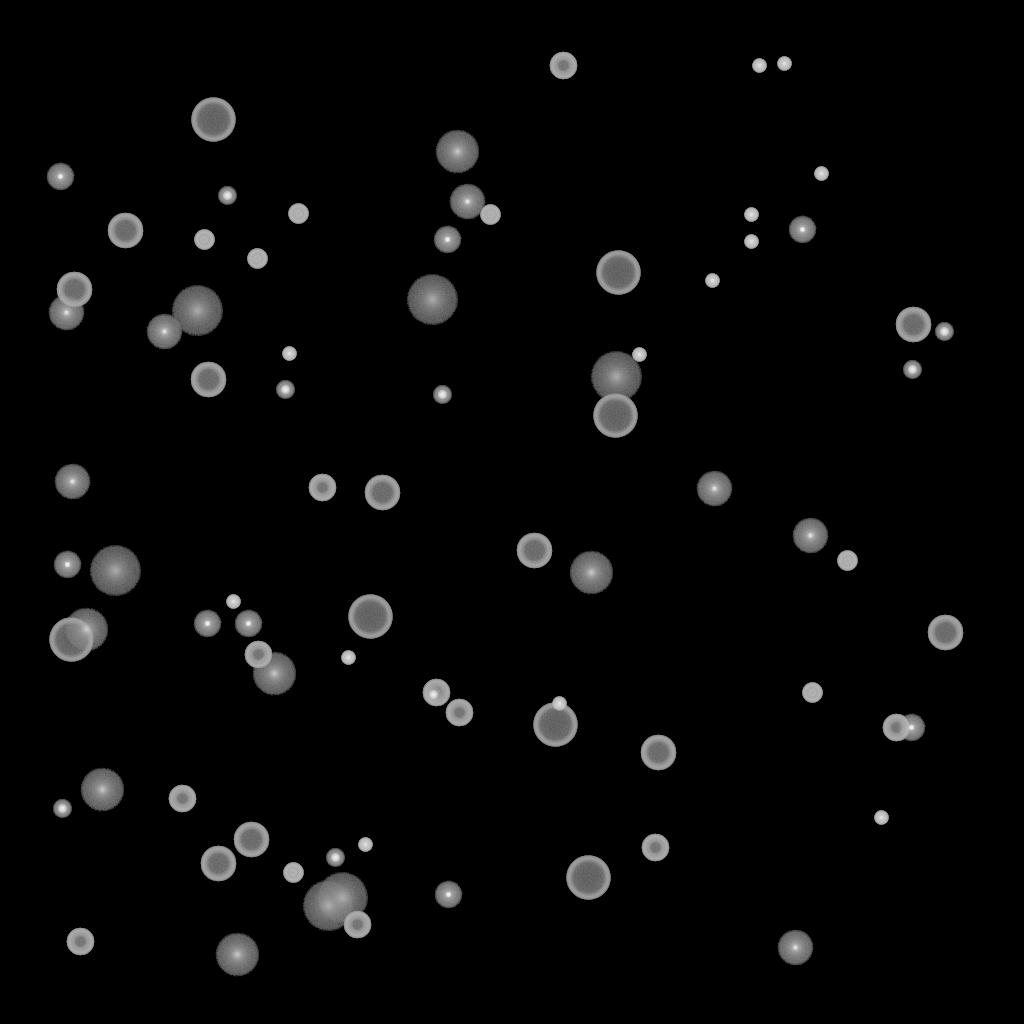depth:-10: (788, 216, 816, 244), (193, 610, 221, 638), (434, 881, 462, 909), (897, 714, 925, 742), (53, 551, 81, 579), (234, 610, 262, 638), (46, 163, 74, 191), (433, 226, 461, 254)
depth:-20: (935, 323, 953, 341), (424, 686, 442, 704), (903, 361, 921, 379), (433, 386, 451, 404), (276, 381, 294, 399), (218, 187, 236, 205), (326, 849, 344, 867), (53, 800, 71, 818)
depth:-30: (282, 347, 296, 361), (226, 595, 240, 609), (744, 208, 758, 222), (814, 167, 828, 181), (552, 697, 566, 711), (341, 651, 355, 665), (632, 348, 646, 362), (358, 838, 372, 852), (752, 59, 766, 73), (874, 811, 888, 825), (744, 235, 758, 249), (705, 274, 719, 288), (777, 57, 791, 71)
depth:-40: (288, 204, 308, 224), (247, 249, 267, 269), (194, 230, 214, 250), (283, 863, 303, 883), (802, 683, 822, 703), (837, 551, 857, 571), (480, 205, 500, 225)
depth:-50: (244, 641, 272, 669), (882, 714, 910, 742), (168, 785, 196, 813), (641, 834, 669, 862), (549, 52, 577, 80), (422, 679, 450, 707), (308, 474, 336, 502), (343, 911, 371, 939), (445, 699, 473, 727), (66, 928, 94, 956)
depth:-60: (190, 362, 226, 398), (516, 533, 552, 569), (200, 846, 236, 882), (640, 735, 676, 771), (56, 272, 92, 308), (233, 822, 269, 858), (107, 213, 143, 249), (927, 615, 963, 651), (895, 307, 931, 343), (364, 475, 400, 511)
depth:-70: (566, 856, 610, 900), (596, 251, 640, 295), (49, 618, 93, 662), (191, 98, 235, 142), (533, 703, 577, 747), (593, 394, 637, 438), (348, 595, 392, 639)
depth:0: (146, 314, 182, 350), (48, 295, 84, 331), (696, 471, 732, 507), (449, 184, 485, 220), (54, 464, 90, 500), (792, 518, 828, 554), (777, 930, 813, 966)
depth:10: (569, 551, 613, 595), (64, 608, 108, 652), (215, 933, 259, 977), (252, 652, 296, 696), (80, 768, 124, 812), (435, 130, 479, 174)
depth:20: (171, 286, 223, 336), (316, 873, 368, 923), (406, 275, 458, 325), (590, 352, 642, 402), (302, 881, 354, 931), (89, 546, 141, 596)
